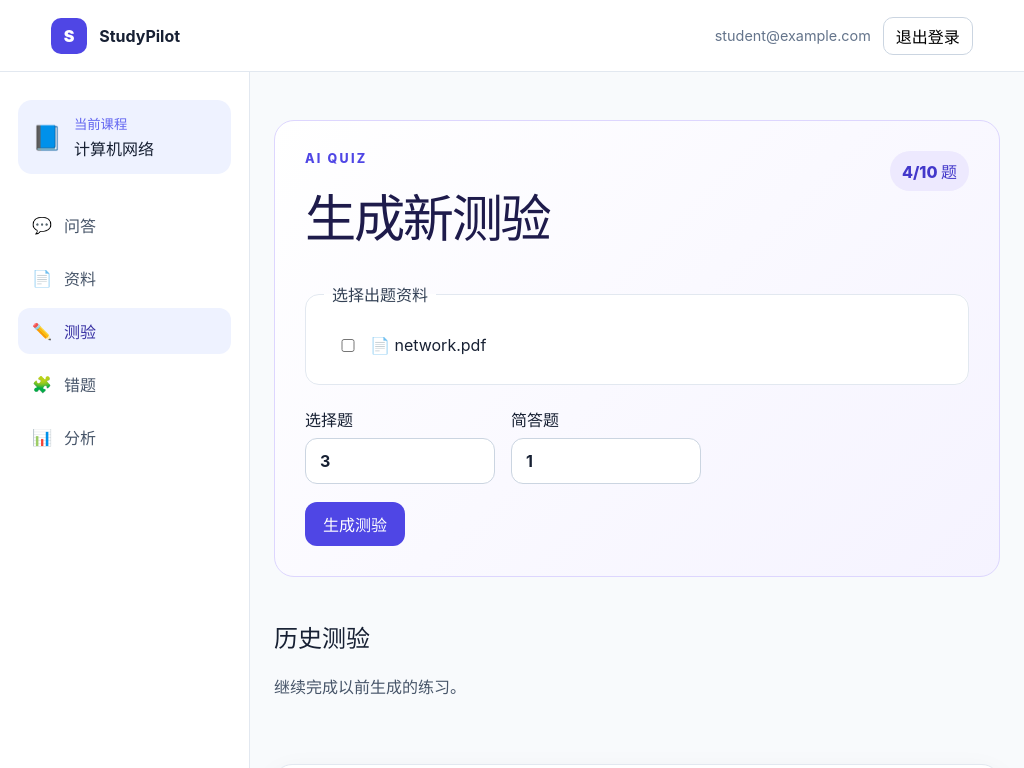
quiz learning flow › shows a dedicated quota error while preserving selections
Click the checkbox labelled "📄 network.pdf": (348, 345) [339,338,357,352]
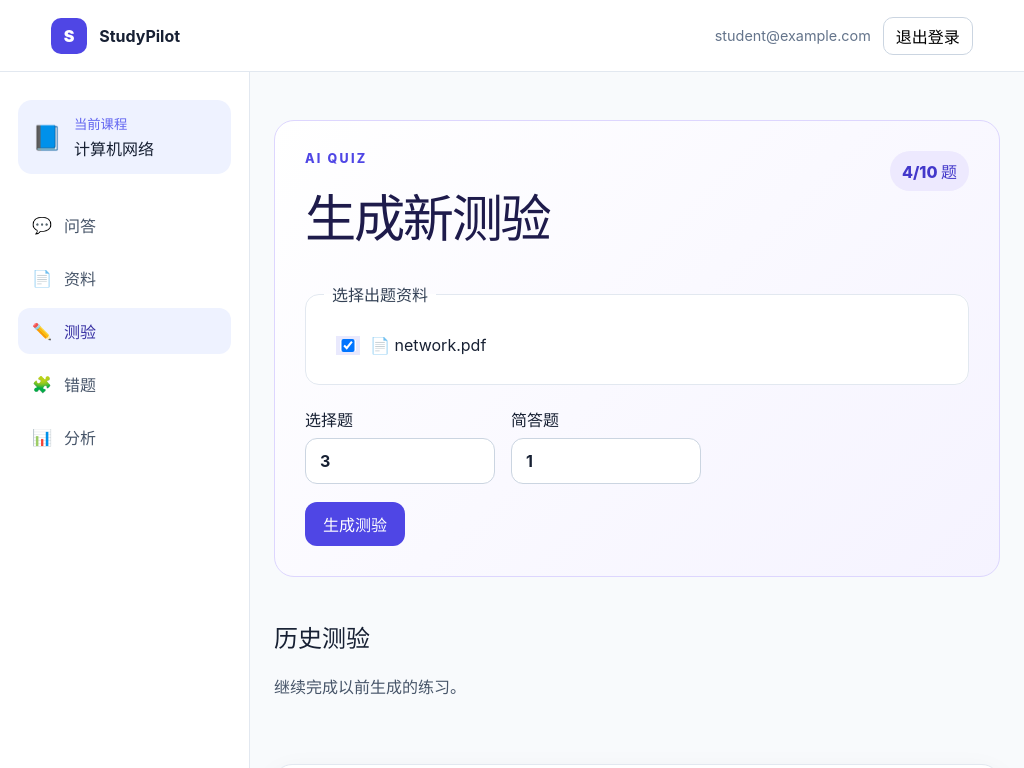
Click the button "生成测验": (355, 524) [305,502,405,546]
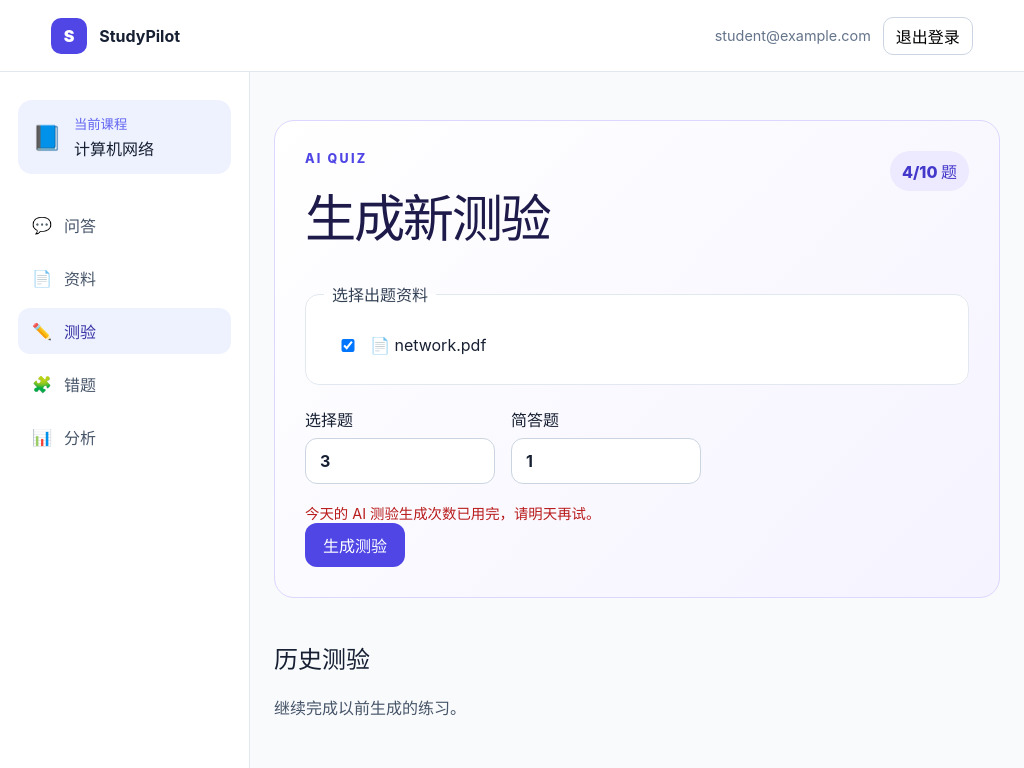
Expected: the checkbox labelled "📄 network.pdf" is checked, [339,338,357,352]
Expected: the message shows "今天的 AI 测验生成次数已用完", [305,505,600,522]
